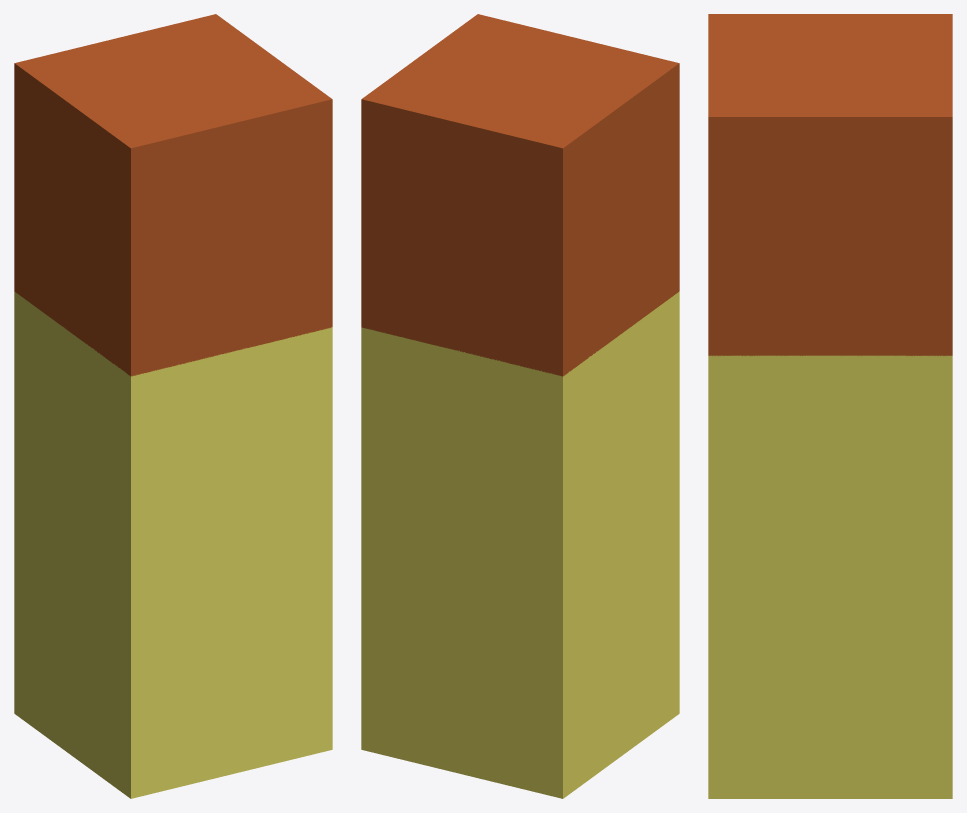
File: Ammo_Pistol.FBX
3 renders of one model, left to right at view 1: azimuth 30°, elevation 25°; view 2: azimuth 150°, elevation 25°; view 3: azimuth 270°, elevation 25°, orthographic. The views are drawn at different scales.
Visible parts, largest first — view 1: Ammo_Pistol, Bullet_pistol; view 2: Ammo_Pistol, Bullet_pistol; view 3: Ammo_Pistol, Bullet_pistol.
Part boxes in pixels (x1,y1,x2,y2): Ammo_Pistol: [14, 291, 332, 798]; Bullet_pistol: [14, 14, 332, 376]; Ammo_Pistol: [361, 291, 679, 798]; Bullet_pistol: [361, 14, 679, 376]; Ammo_Pistol: [708, 355, 952, 798]; Bullet_pistol: [708, 14, 952, 356].
Bounding box in the file's own units: 2.58 × 2.58 × 7.97.
